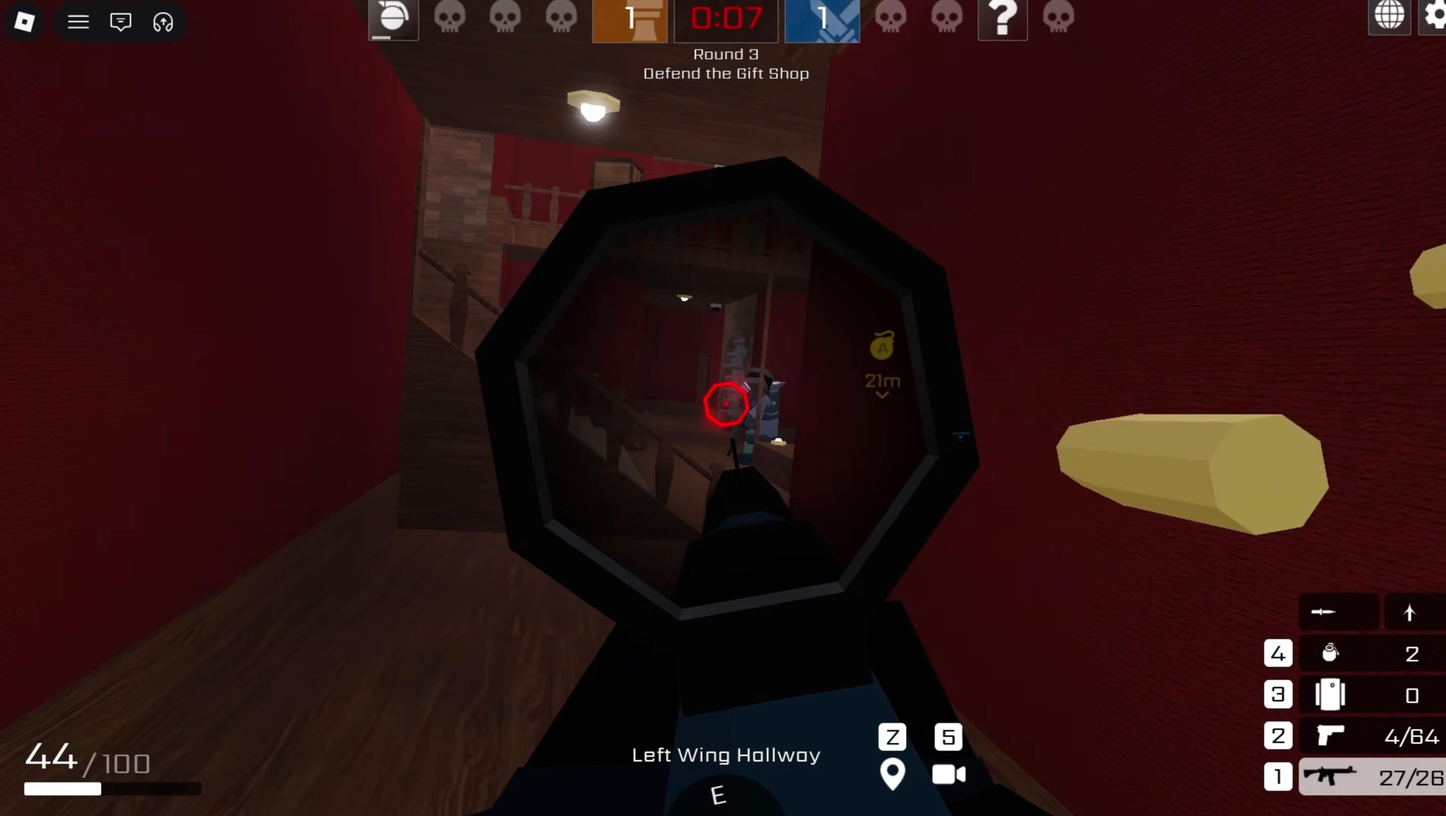enemy: (725, 366, 794, 470)
